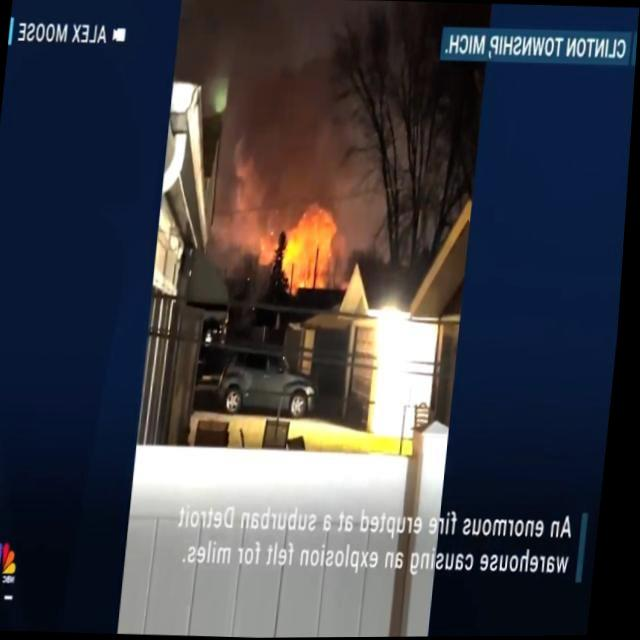fire: (266, 195, 350, 301)
